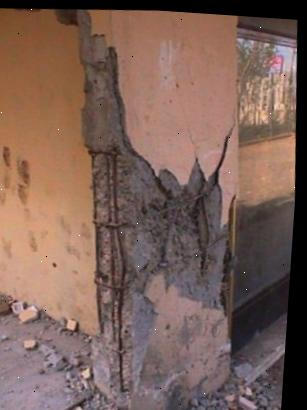spalling: (84, 144, 232, 404)
